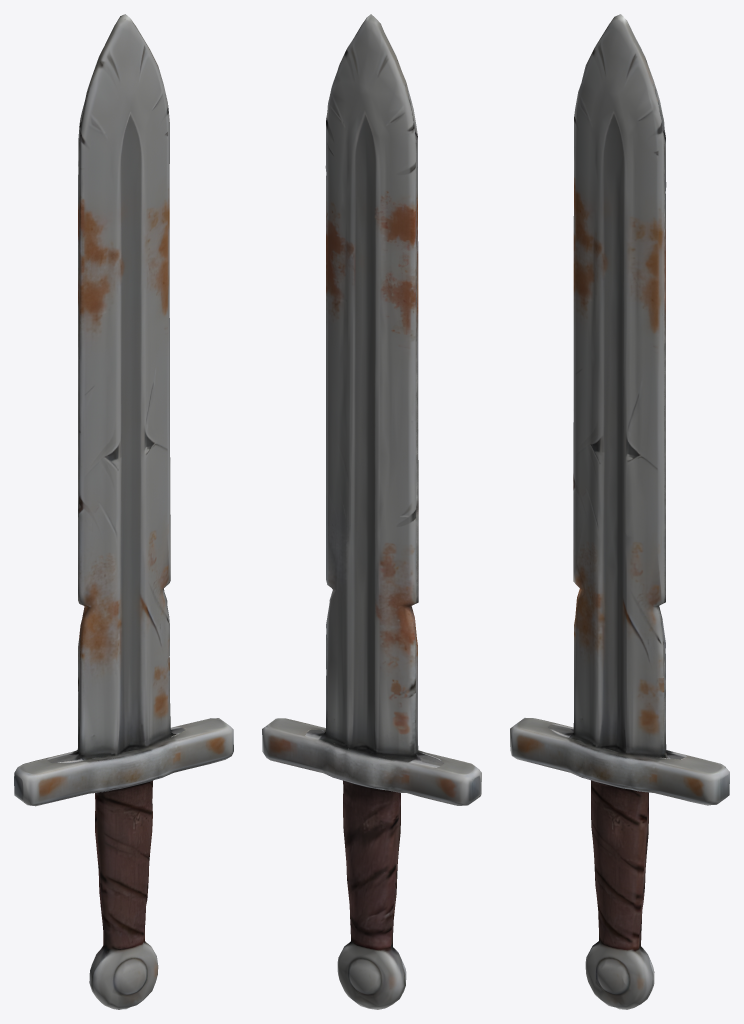
Rendered from Meshy_AI_Rusty_Blade_0115063135_texture.fbx.
The picture shows the model from 3 angles, left to right: view 1: azimuth 30°, elevation 25°; view 2: azimuth 150°, elevation 25°; view 3: azimuth 330°, elevation 25°; orthographic projection.
Visible parts, largest first — view 1: Mesh_0; view 2: Mesh_0; view 3: Mesh_0.
Part boxes in pixels (left/top/right/bottom): Mesh_0: left=14, top=14, right=233, bottom=1009; Mesh_0: left=262, top=14, right=481, bottom=1009; Mesh_0: left=510, top=14, right=729, bottom=1009.
Size of the model in its own units: 42.33 by 192 by 9.29.
1 material, 1 textured.
